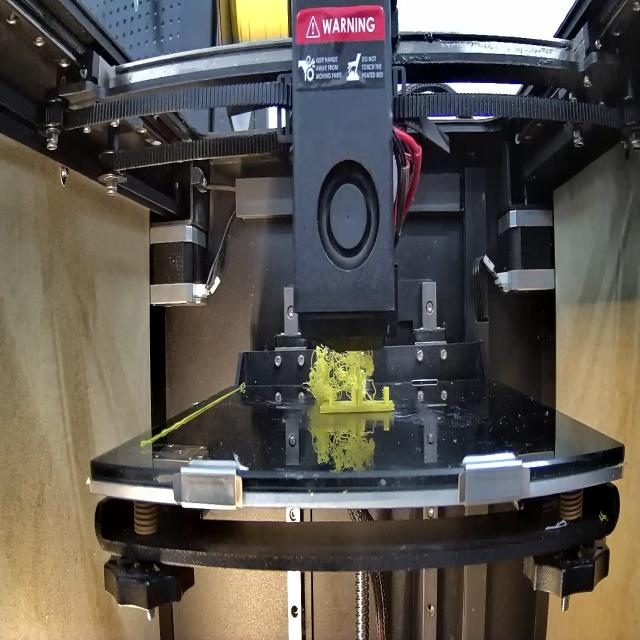spaghetti: (308, 345, 377, 400)
